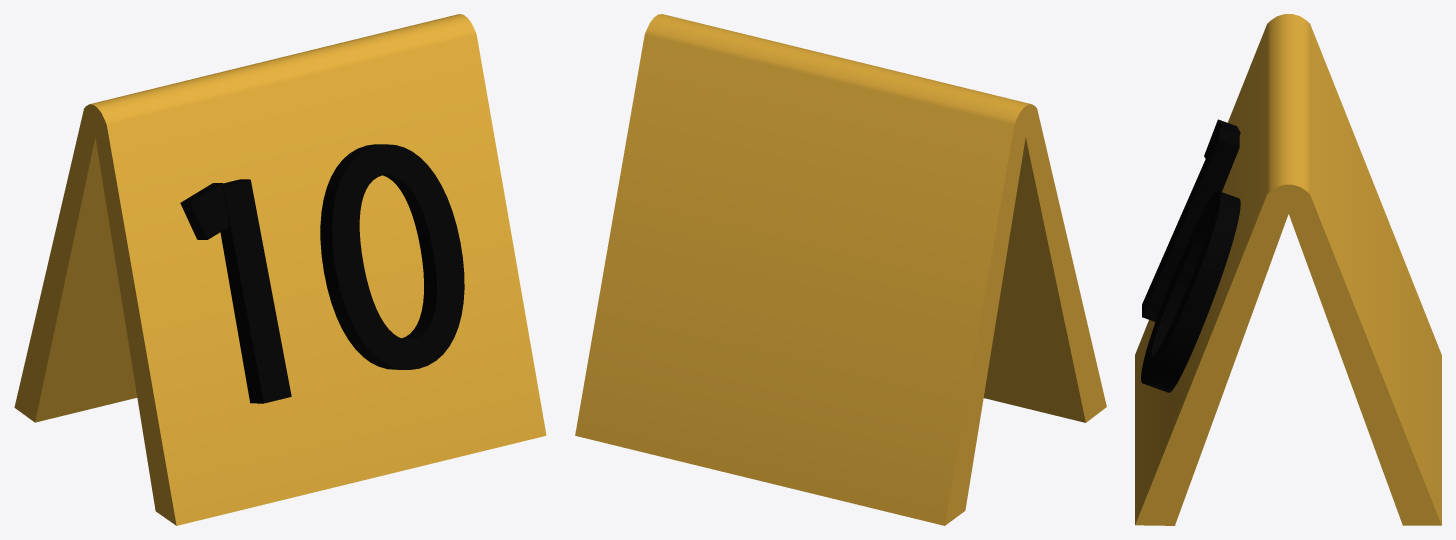
3 views of the same model, side by side, from view 1: azimuth 30°, elevation 25°; view 2: azimuth 150°, elevation 25°; view 3: azimuth 270°, elevation 25° (orthographic). The views are drawn at different scales.
Visible parts, largest first — view 1: Bordje, Text.009, Cube; view 2: Bordje; view 3: Bordje, Text.009.
Boxes of the visible parts, box(x1,y1,x2,y2) form: Bordje: box(14, 14, 546, 525); Text.009: box(220, 144, 464, 403); Cube: box(180, 183, 229, 239); Bordje: box(575, 14, 1106, 525); Bordje: box(1135, 14, 1441, 525); Text.009: box(1141, 127, 1240, 392).
Bounding box in the file's own units: 342 × 319 × 260.
